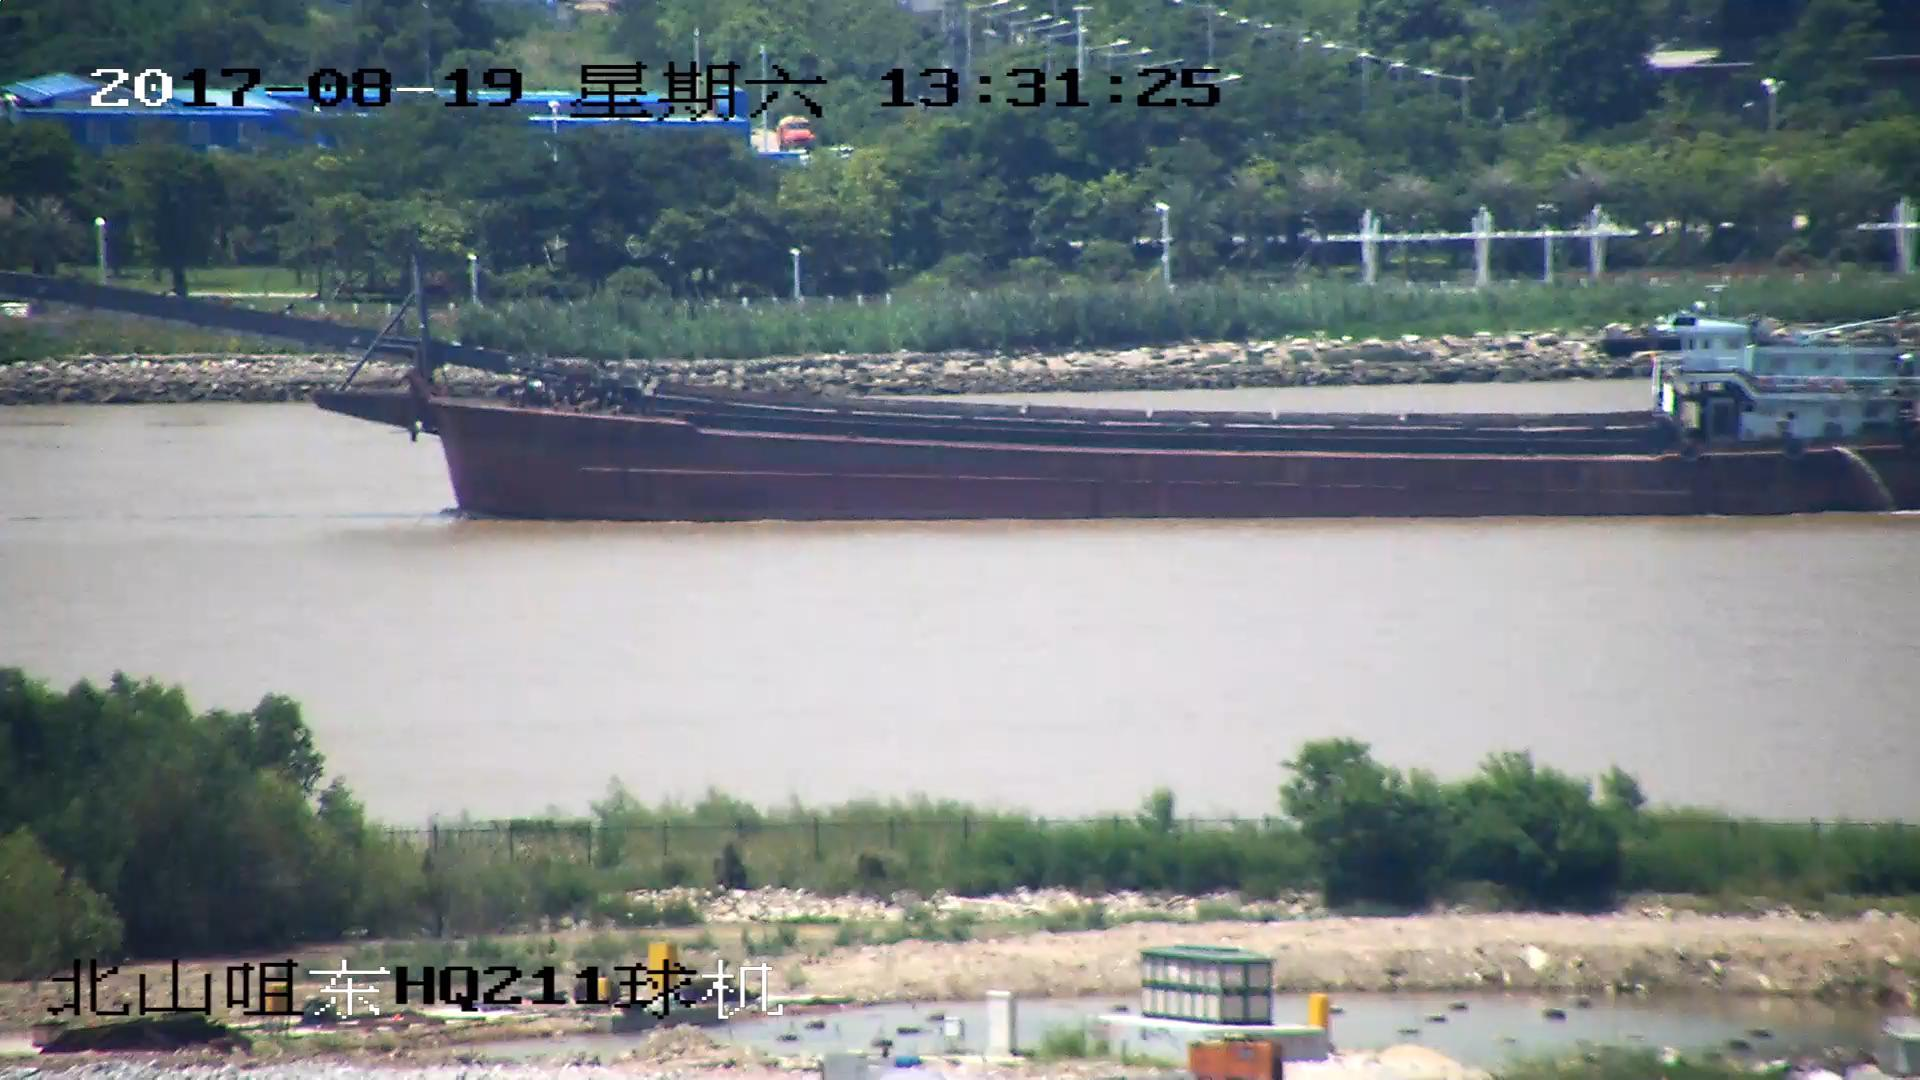Ship: (3, 268, 1920, 524)
